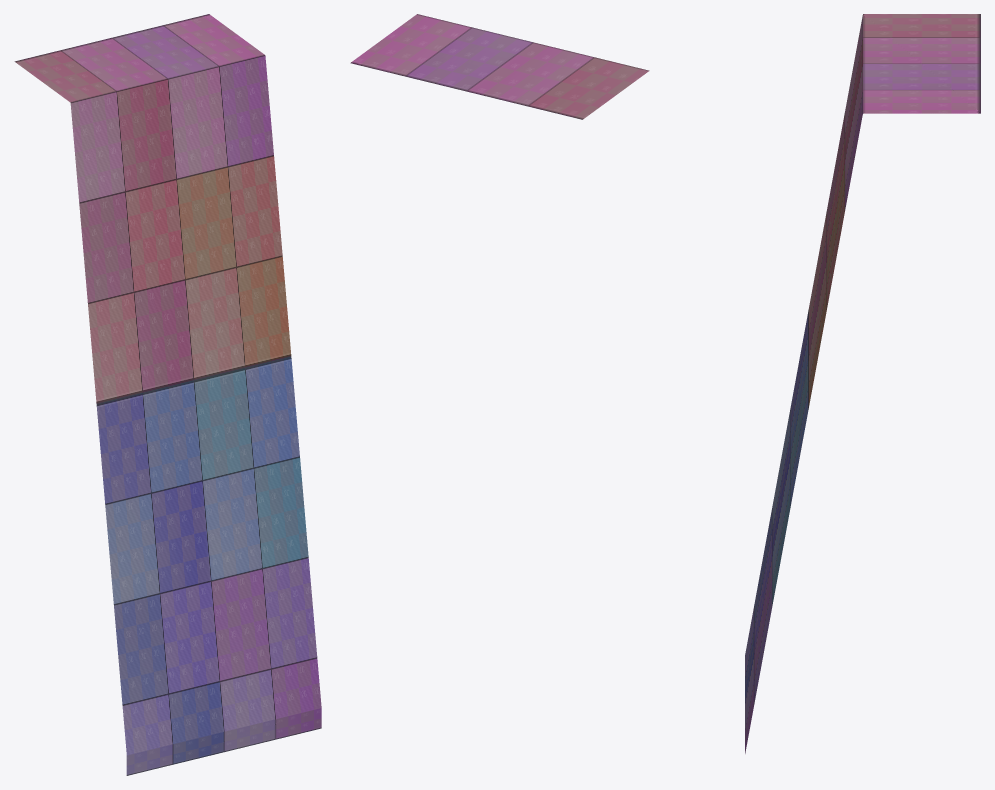
The model's file is tile_wall.glb.
3 views of the same model, side by side, from view 1: azimuth 30°, elevation 25°; view 2: azimuth 150°, elevation 25°; view 3: azimuth 270°, elevation 25° (orthographic). The views are drawn at different scales.
Visible parts, largest first — view 1: tile_wall; view 2: tile_wall; view 3: tile_wall.
Part boxes in pixels (<box>): tile_wall: <box>14,14,321,775</box>; tile_wall: <box>350,14,649,119</box>; tile_wall: <box>745,14,980,753</box>.
Size of the model in its own units: 1 by 3.1 by 1.
1 material, 1 textured.
